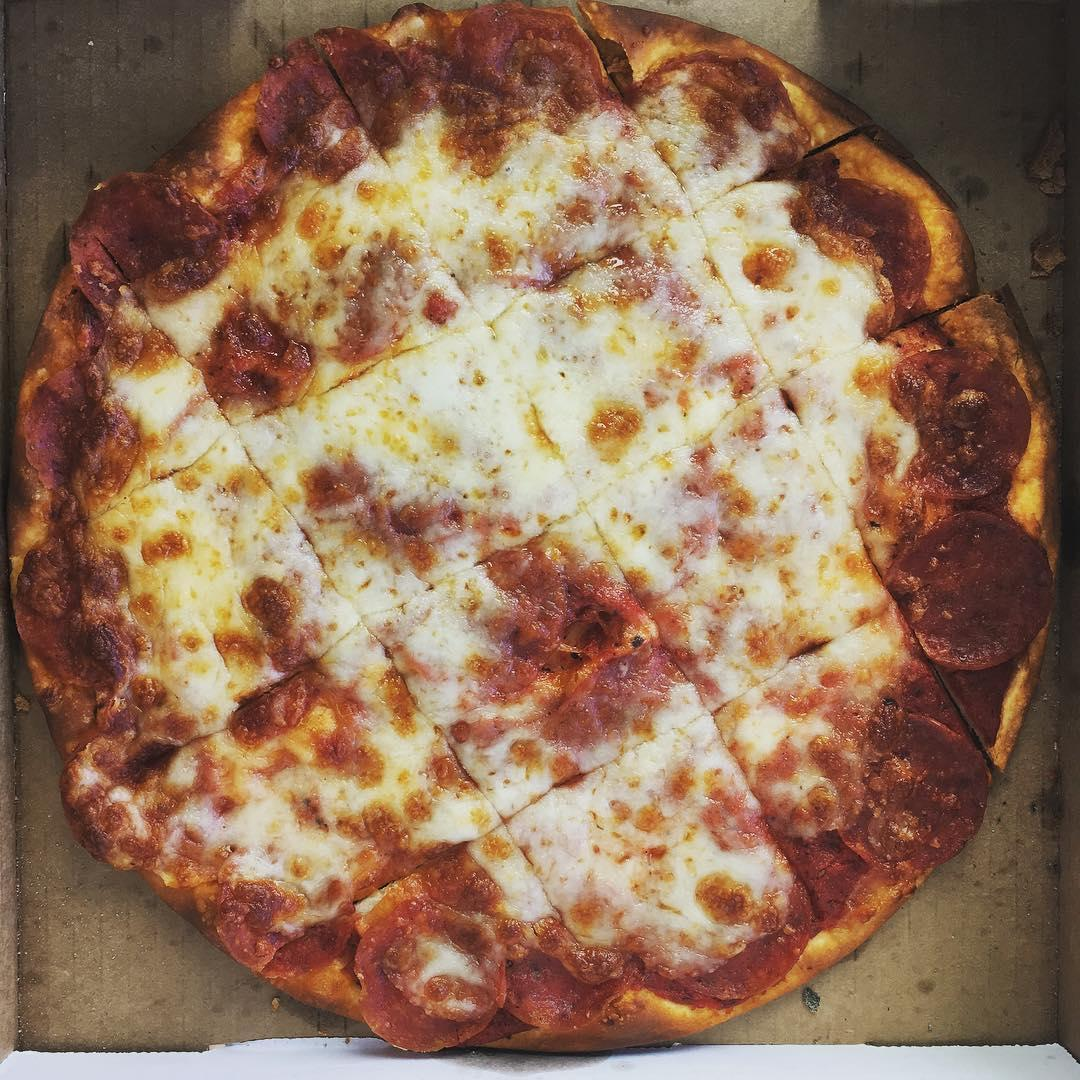Cheese: (705, 260, 862, 525), (390, 343, 652, 482), (503, 805, 705, 913), (152, 423, 225, 652)
Pepperoni: (608, 790, 829, 1023), (784, 698, 997, 895), (864, 496, 1057, 680), (856, 332, 1044, 507), (234, 12, 424, 180), (340, 880, 517, 1060), (616, 38, 813, 198), (60, 152, 236, 320), (440, 0, 630, 150), (750, 172, 936, 315), (14, 350, 151, 512)
Pizza: (0, 0, 1050, 1053)
